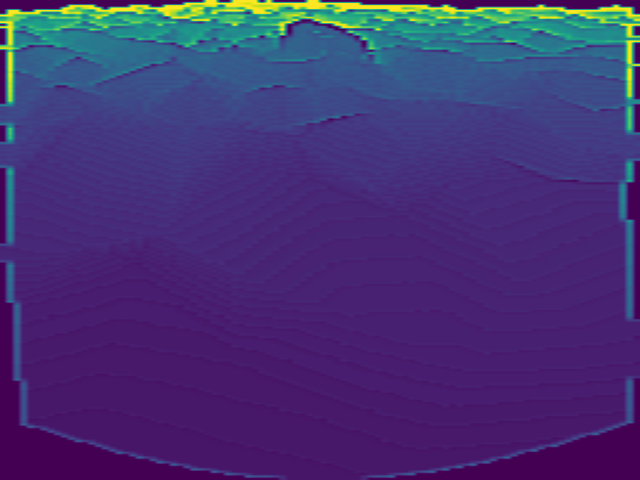car_0198: (281, 17, 379, 66)
